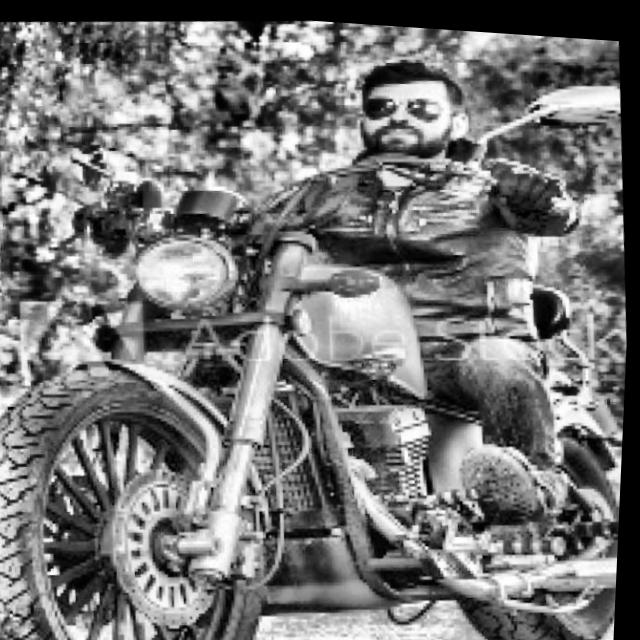motorcycle: (0, 45, 638, 640)
